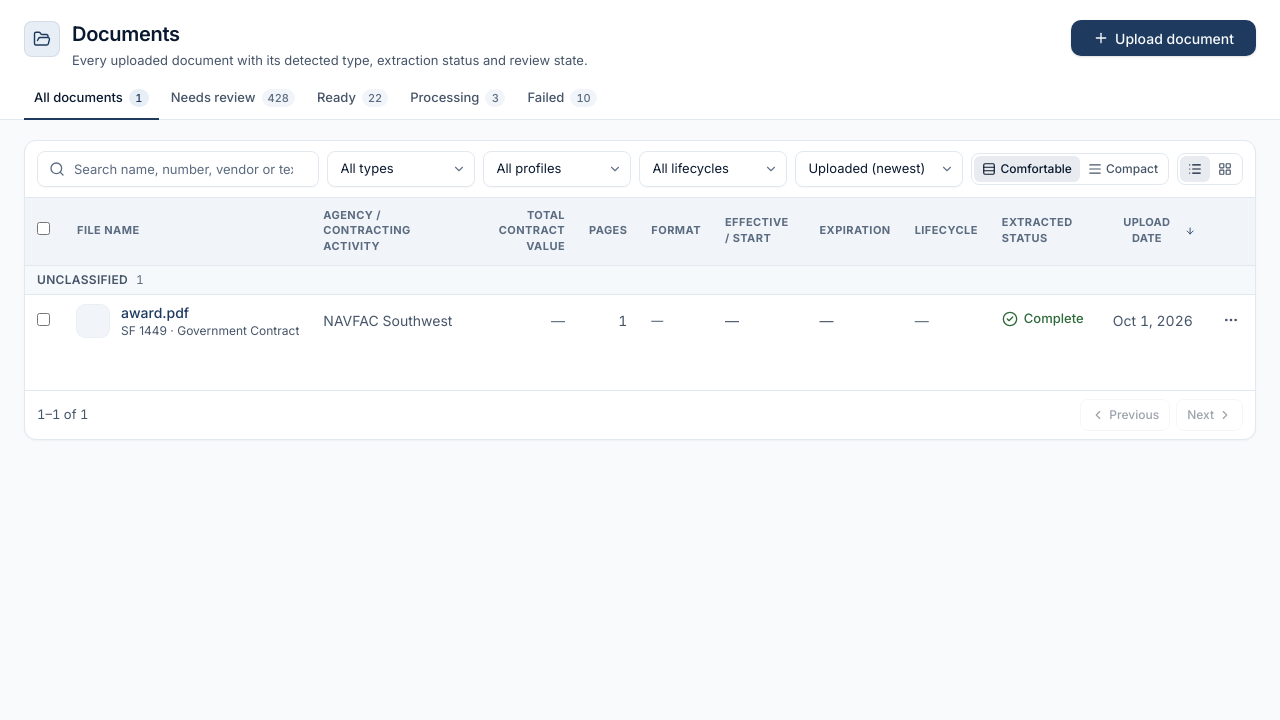
Test: Documents repository (RC2-02) › opens a quick-preview drawer on row click and closes it with Escape
This screenshot has width=1280, height=720.
Click the text "award.pdf": (155, 312) [121, 304, 189, 321]
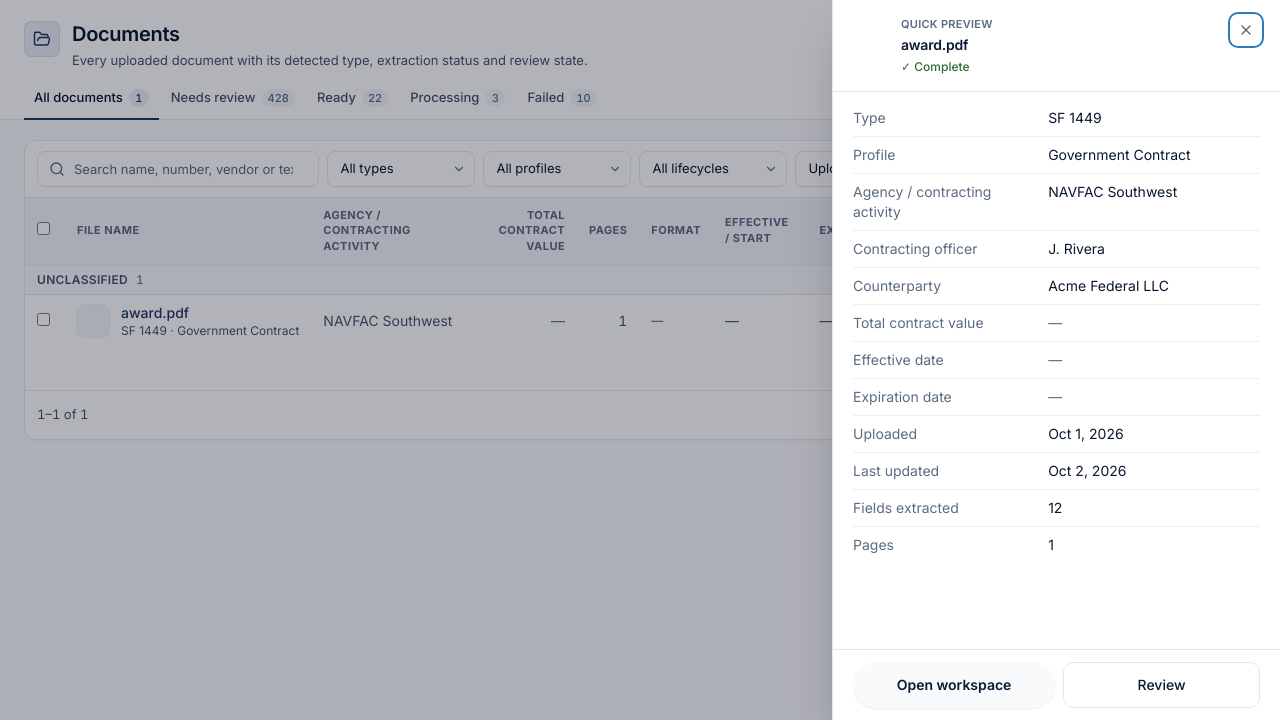
Now the text "NAVFAC Southwest" is shown, box [1048, 182, 1177, 200]
Now the text "J. Rivera" is shown, box [1048, 240, 1105, 256]
Now the text "Acme Federal LLC" is shown, box [1048, 276, 1169, 294]
Press Escape
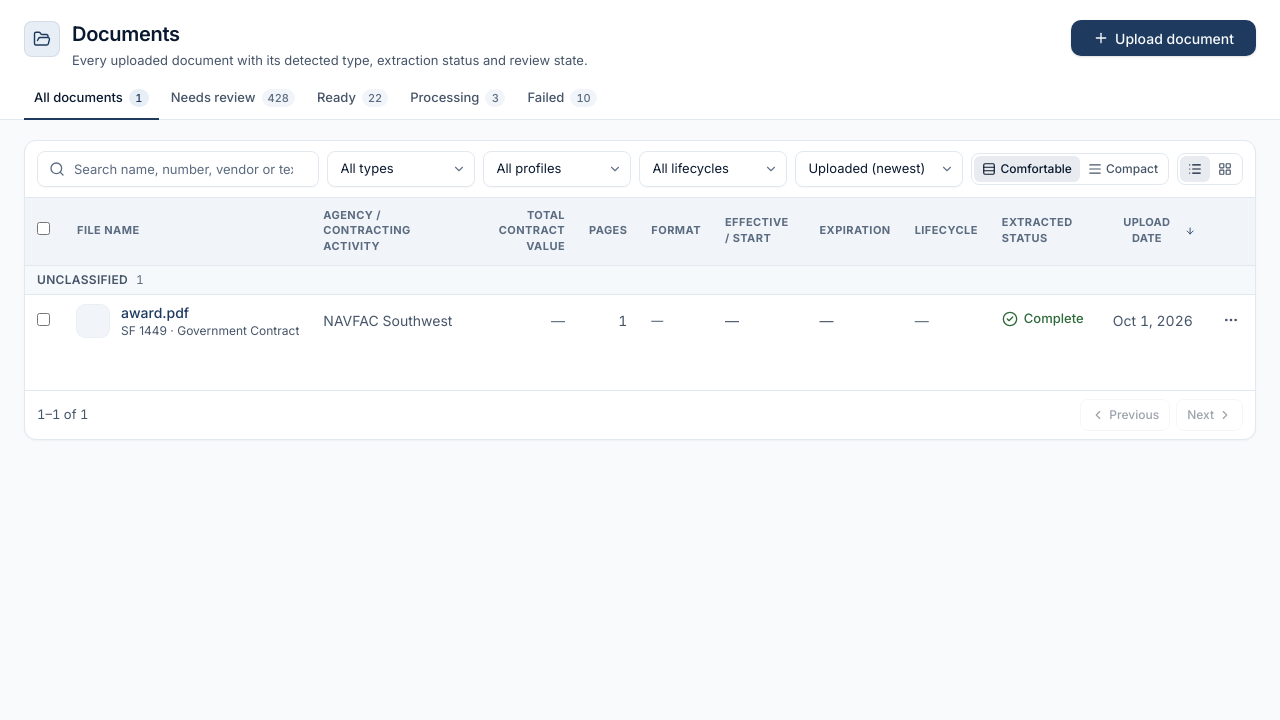
Now the dialog is gone
Note: Keyboard: Enter on a focused row opens the same preview.
Press Enter in the row named "Preview award.pdf", box [25, 294, 1255, 347]
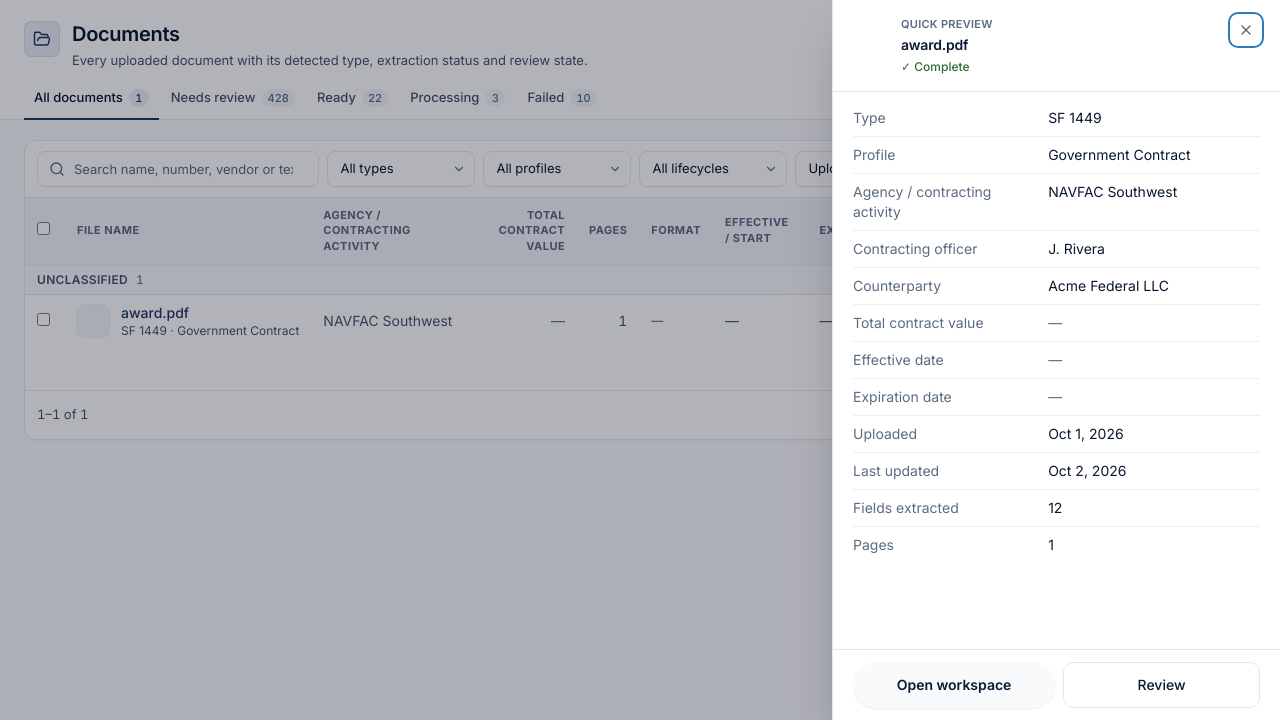
Now the dialog "award.pdf" is shown, box [832, 0, 1279, 719]
